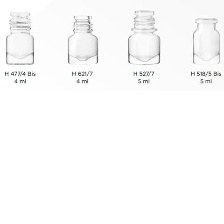bottle: (122, 6, 163, 68), (65, 10, 102, 67), (4, 9, 36, 67), (189, 14, 222, 69)
